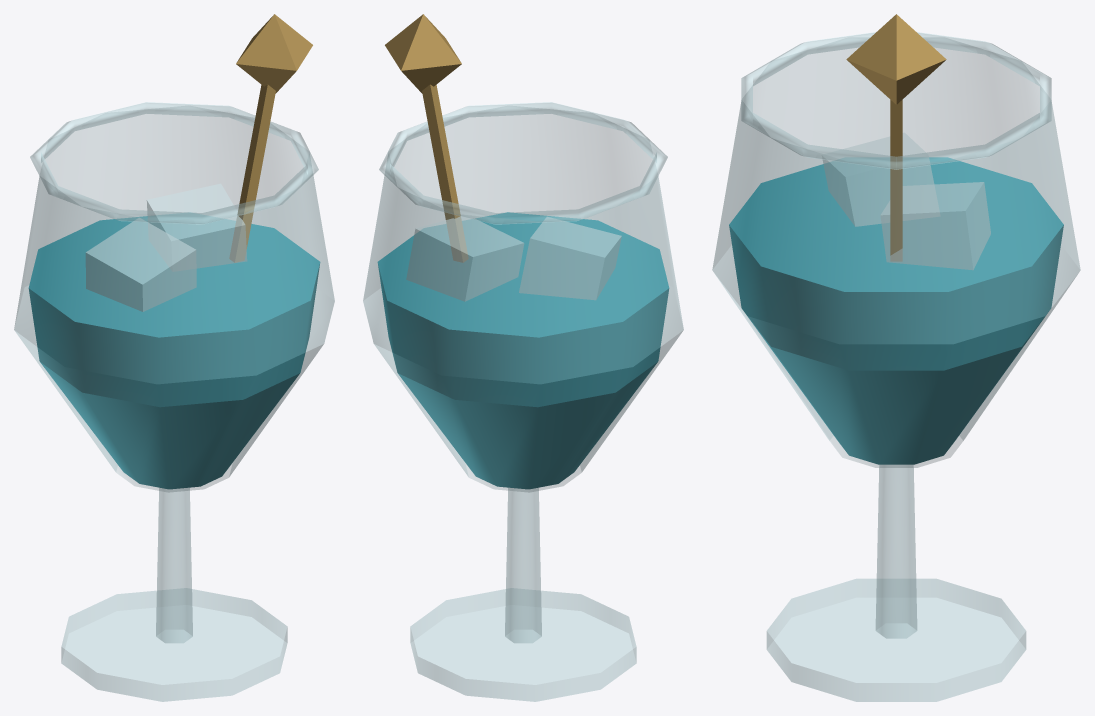
Rendered from wednesday-special.glb.
The picture shows the model from 3 angles, left to right: view 1: azimuth 30°, elevation 25°; view 2: azimuth 150°, elevation 25°; view 3: azimuth 270°, elevation 25°; orthographic projection. The views are drawn at different scales.
Visible parts, largest first — view 1: wednesday-special; view 2: wednesday-special; view 3: wednesday-special.
Part boxes in pixels (x1=…): wednesday-special: x1=14, y1=14, x2=334, y2=701; wednesday-special: x1=363, y1=14, x2=683, y2=701; wednesday-special: x1=712, y1=14, x2=1080, y2=701.
Size of the model in its own units: 0.0848 by 0.182 by 0.088.
